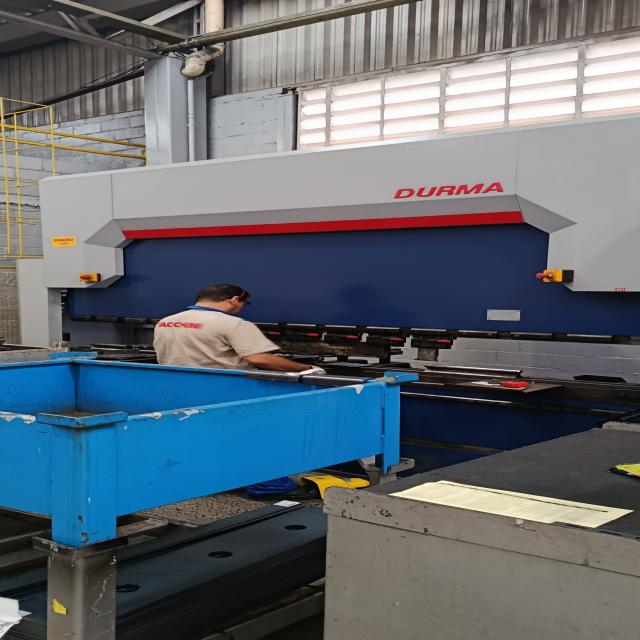oculos-epi: (239, 299, 253, 308)
